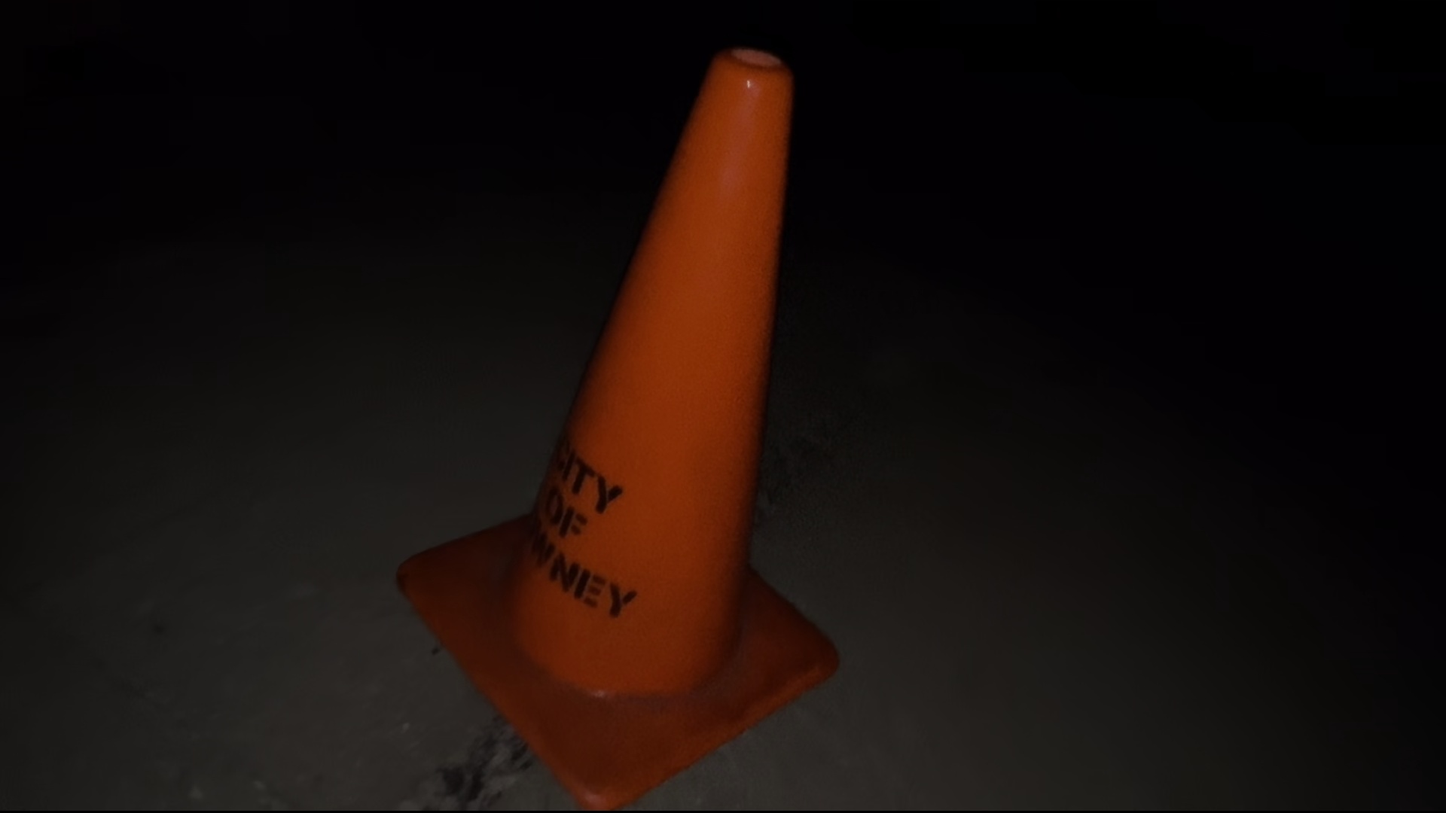traffic_cone: (394, 45, 842, 810)
